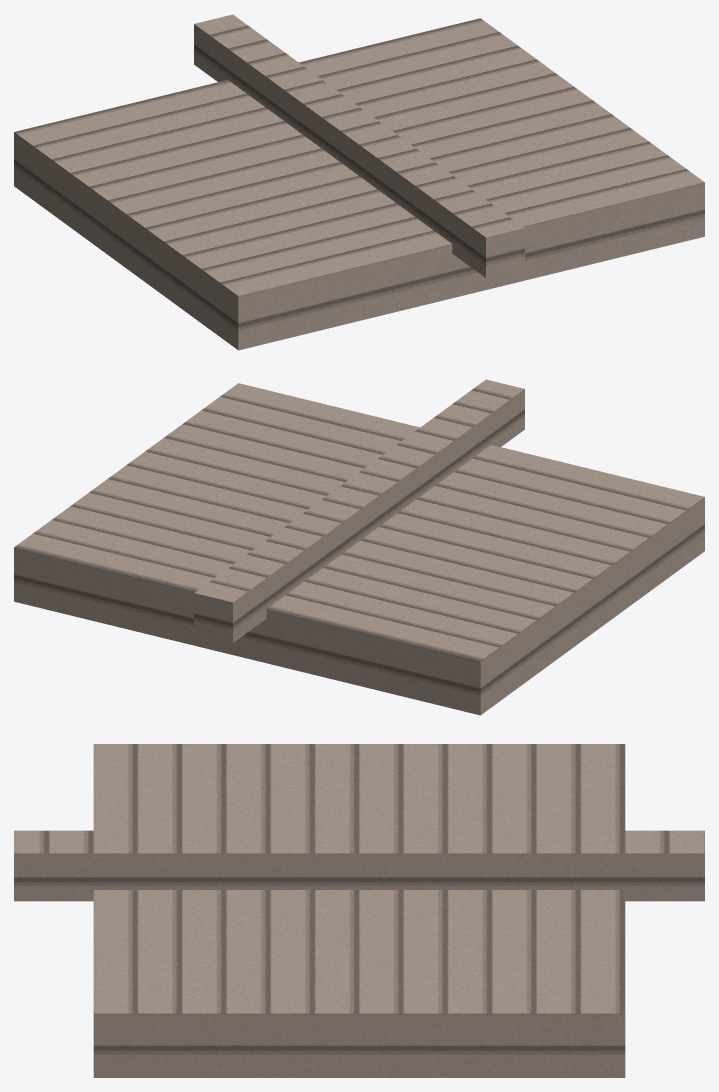
Rendered from mower.glb.
The picture shows the model from 3 angles, top to bottom: view 1: azimuth 30°, elevation 25°; view 2: azimuth 150°, elevation 25°; view 3: azimuth 270°, elevation 25°; orthographic projection. The views are drawn at different scales.
Parts seen in each view (by area): view 1: mower-col; view 2: mower-col; view 3: mower-col.
Part boxes in pixels (x1,y1,x2,y2): mower-col: (14,14,704,350); mower-col: (14,379,704,715); mower-col: (14,744,704,1077).
Bounding box in the file's own units: 1.8 × 0.315 × 1.95.
Materials: 1 (1 with a texture image).
